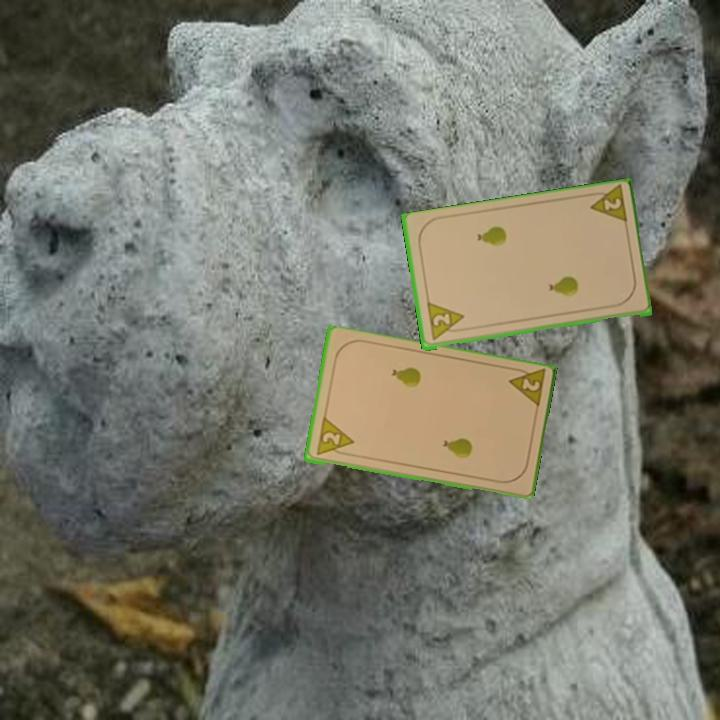2p: (504, 364, 548, 412), (583, 184, 630, 228), (423, 300, 468, 344), (312, 415, 356, 459)
